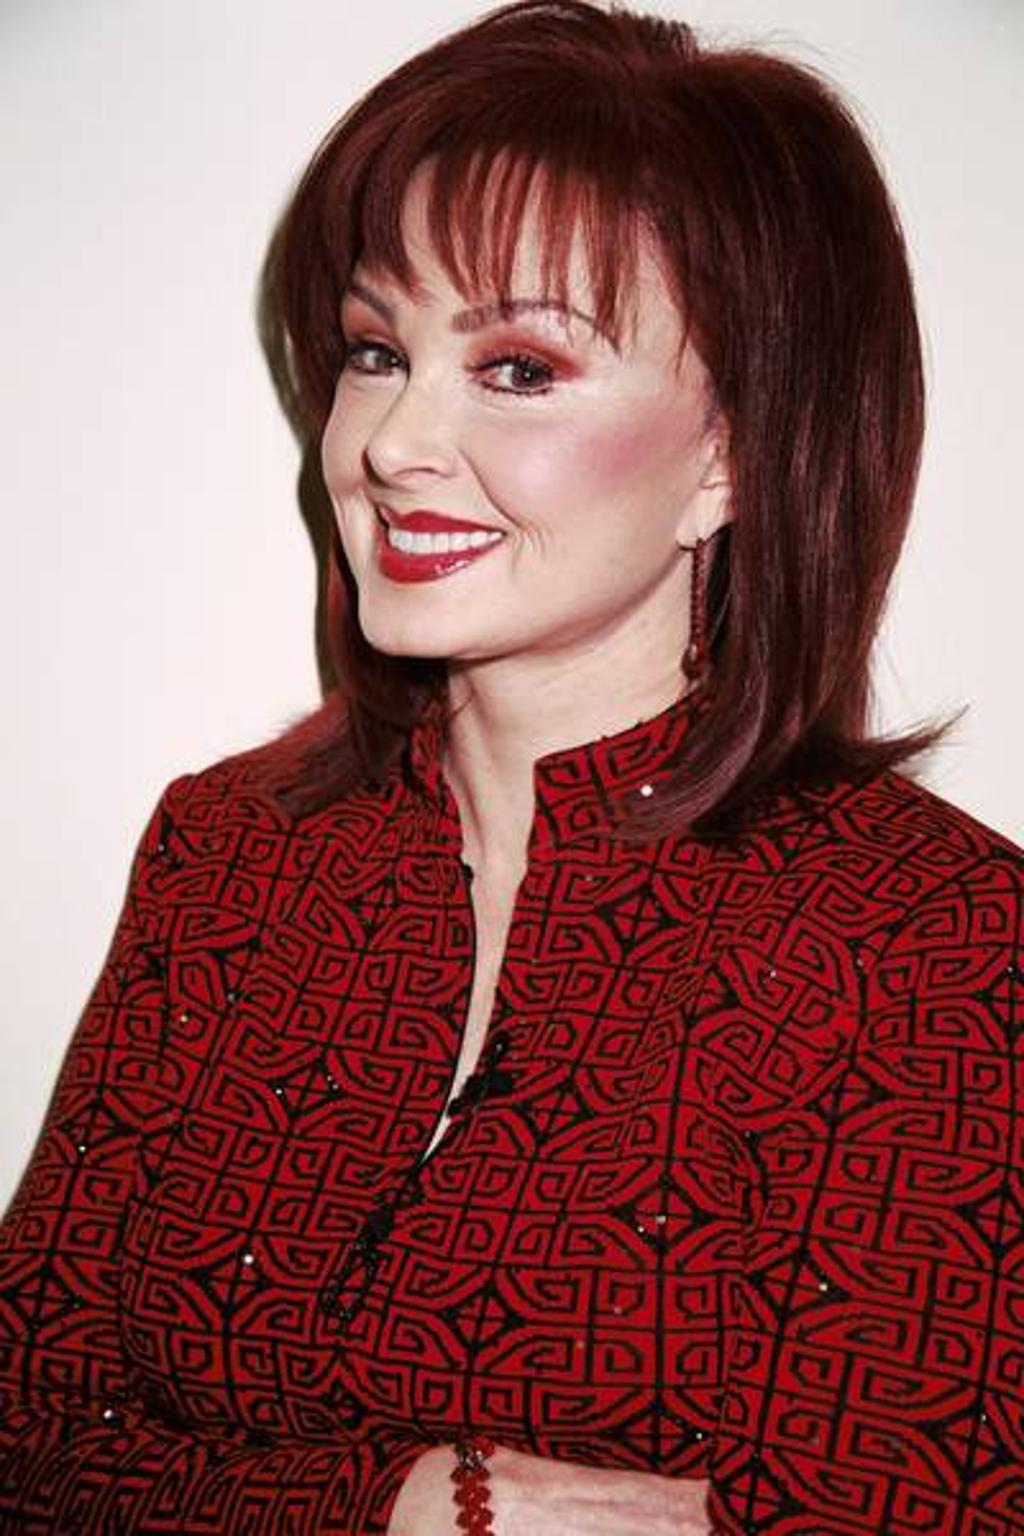face: (321, 153, 696, 645)
